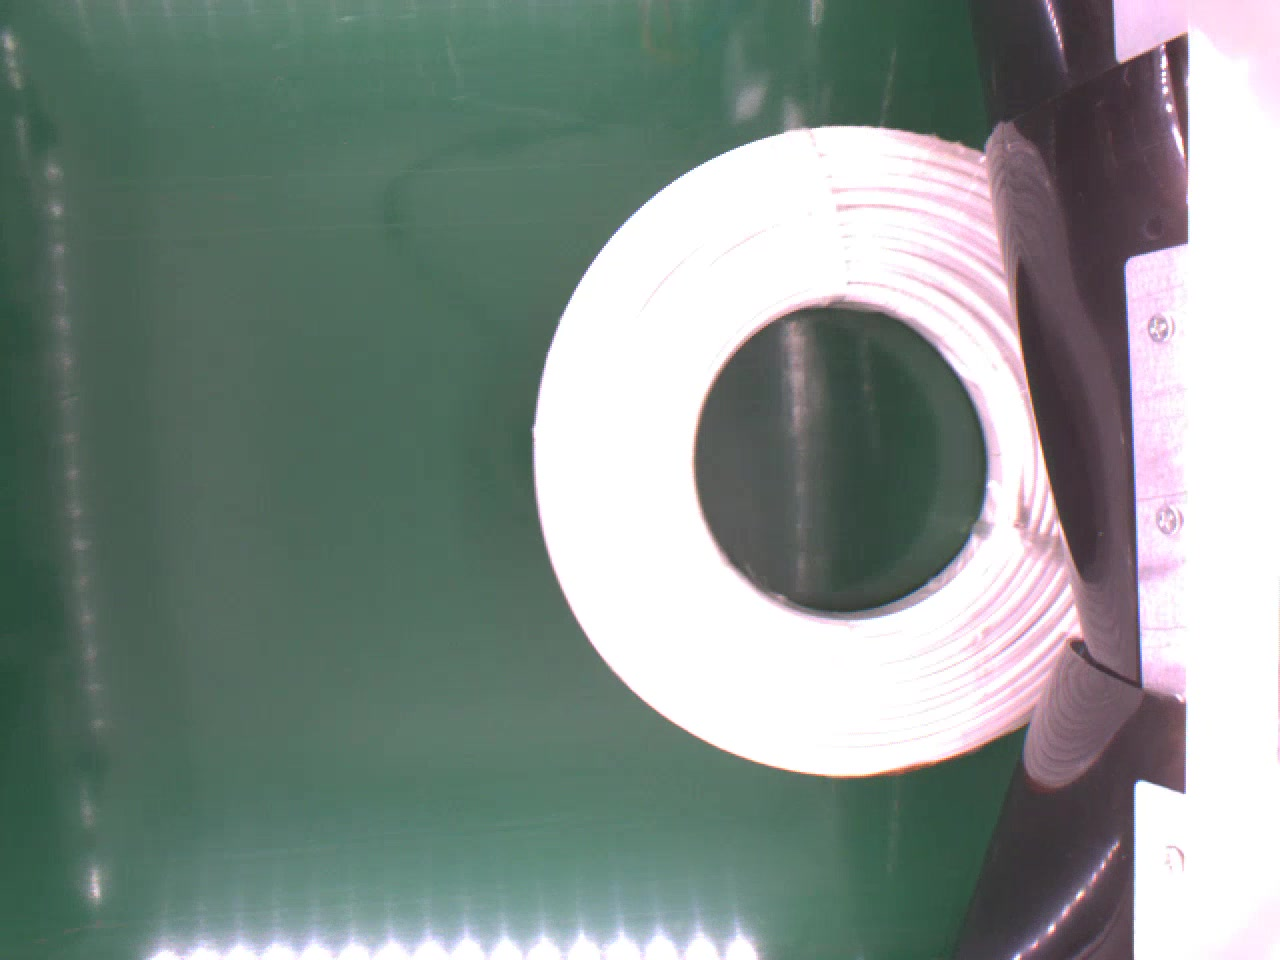white: (531, 123, 1077, 778)
